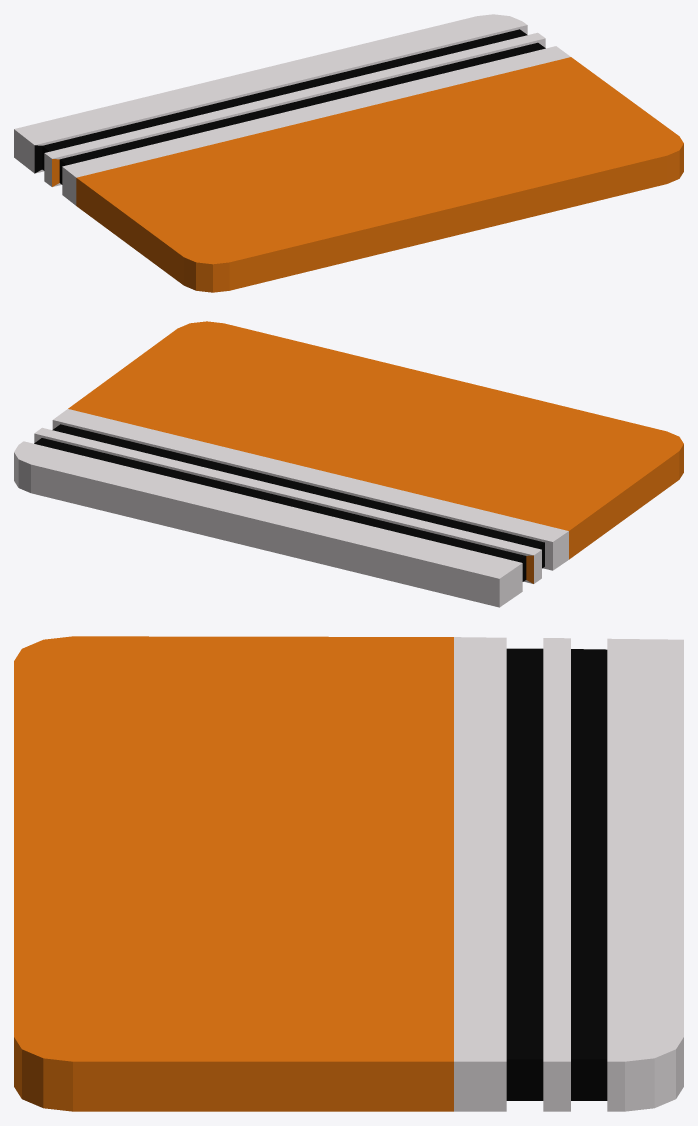
File: SM_Collection_09.fbx
3 views of the same model, one above another, from view 1: azimuth 30°, elevation 25°; view 2: azimuth 150°, elevation 25°; view 3: azimuth 270°, elevation 25° (orthographic). The views are drawn at different scales.
Parts seen in each view (by area): view 1: SM_KeyCard_02; view 2: SM_KeyCard_02; view 3: SM_KeyCard_02.
Part boxes in pixels (x1,y1,x2,y2): SM_KeyCard_02: (14,14,683,292); SM_KeyCard_02: (14,321,683,607); SM_KeyCard_02: (14,636,683,1111).
Bounding box in the file's own units: 31.34 × 1.72 × 20.86.
